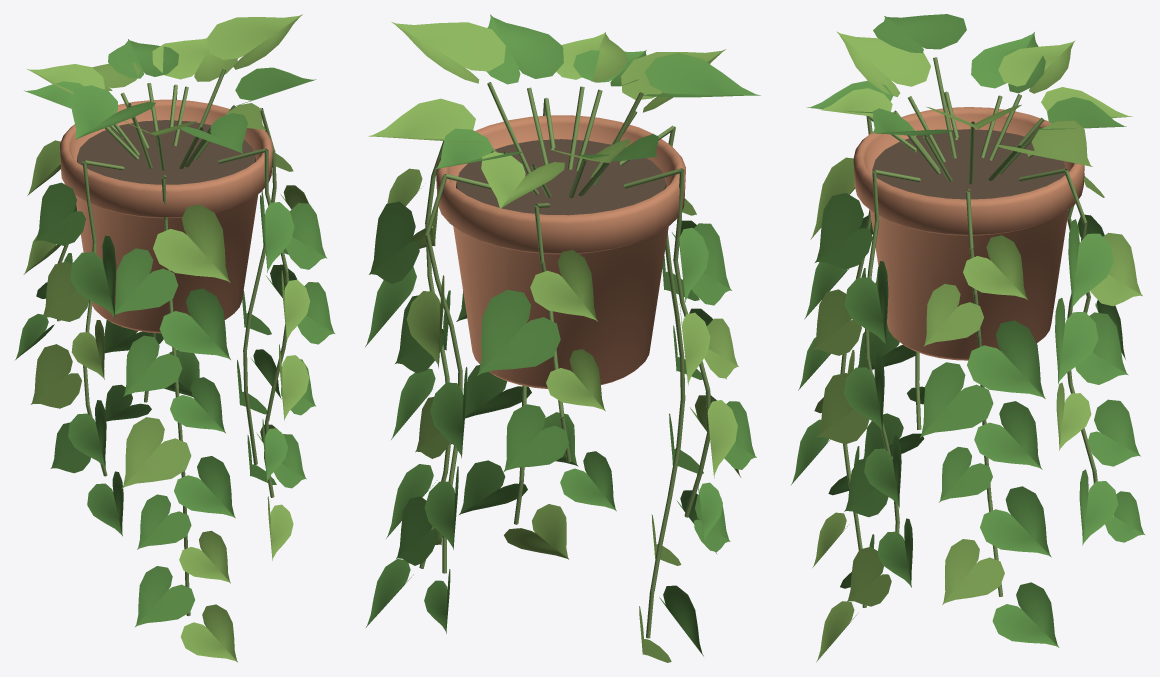
The model's file is pothos.glb.
The picture shows the model from 3 angles, left to right: view 1: azimuth 30°, elevation 25°; view 2: azimuth 150°, elevation 25°; view 3: azimuth 270°, elevation 25°; orthographic projection. The views are drawn at different scales.
Parts seen in each view (by area): view 1: pothos_leaf, pothos_leaf_light, terracotta, pothos_stem, soil; view 2: pothos_leaf, pothos_leaf_light, terracotta, pothos_stem, soil; view 3: pothos_leaf, pothos_leaf_light, terracotta, soil, pothos_stem.
Boxes of the visible parts, left/top/right/bottom form: pothos_leaf: left=15, top=39, right=334, bottom=626; pothos_leaf_light: left=23, top=14, right=310, bottom=662; terracotta: left=60, top=99, right=272, bottom=333; pothos_stem: left=57, top=69, right=288, bottom=616; soil: left=77, top=120, right=255, bottom=184; pothos_leaf: left=365, top=14, right=760, bottom=656; pothos_leaf_light: left=368, top=22, right=740, bottom=662; terracotta: left=436, top=115, right=685, bottom=388; pothos_stem: left=419, top=82, right=710, bottom=638; soil: left=456, top=139, right=666, bottom=215; pothos_leaf: left=791, top=14, right=1144, bottom=647; pothos_leaf_light: left=810, top=31, right=1142, bottom=662; terracotta: left=853, top=107, right=1084, bottom=360; soil: left=872, top=129, right=1065, bottom=199; pothos_stem: left=840, top=57, right=1097, bottom=607.
Bounding box in the file's own units: 0.2762 × 0.5385 × 0.2853.
